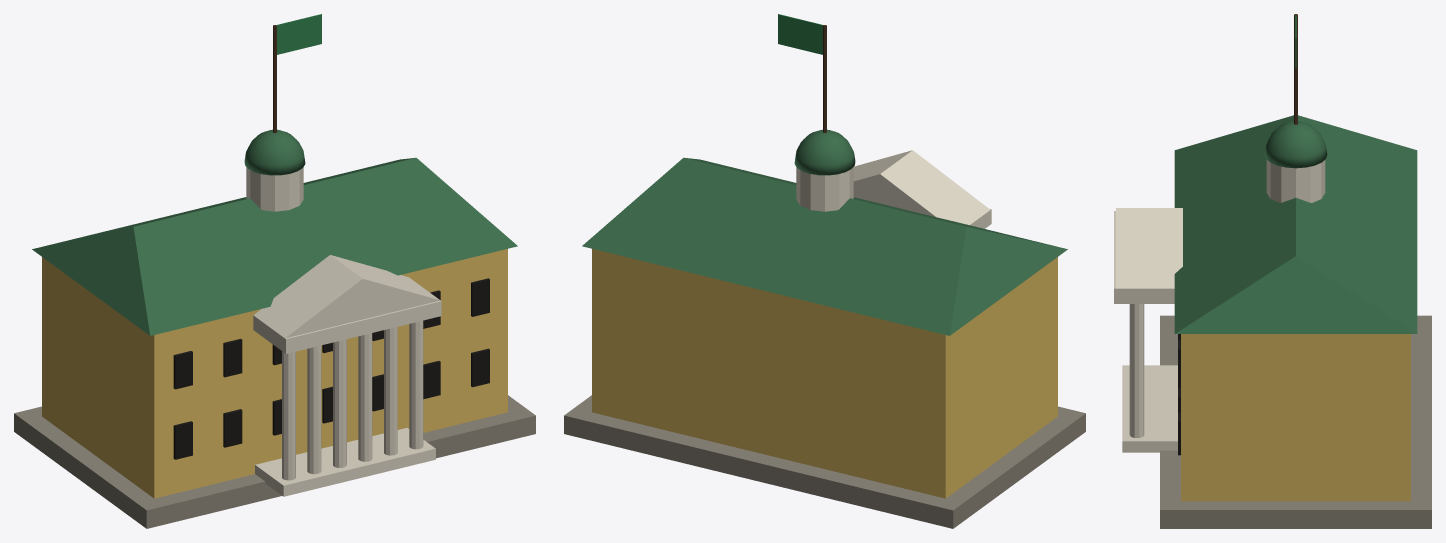
File: keep.glb
3 views of the same model, side by side, from view 1: azimuth 30°, elevation 25°; view 2: azimuth 150°, elevation 25°; view 3: azimuth 270°, elevation 25° (orthographic). The views are drawn at different scales.
Visible parts, largest first — view 1: Keep; view 2: Keep; view 3: Keep.
Part boxes in pixels (x1,y1,x2,y2): Keep: (14, 14, 535, 528); Keep: (564, 14, 1085, 528); Keep: (1114, 14, 1431, 528).
Bounding box in the file's own units: 22 × 22 × 15.2.
